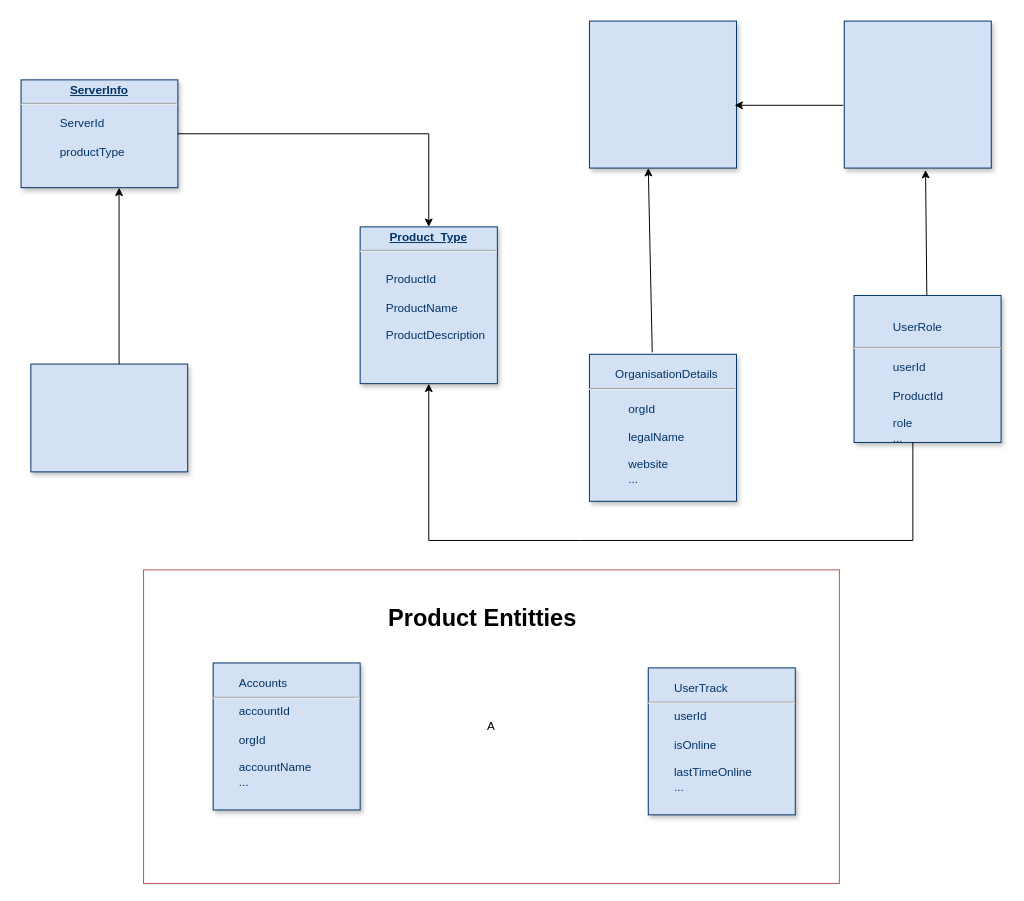
Image size: 1024x901. Some labels were removed from this diagram. Each missing label, with the centre of its shape:
OrgProductRegistry orgId ProductId: point 663,95
ServerStatus ServerId Status: point 110,419
User userId orgId userName ...: point 918,95
